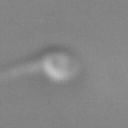normal: (1, 56, 40, 89)
